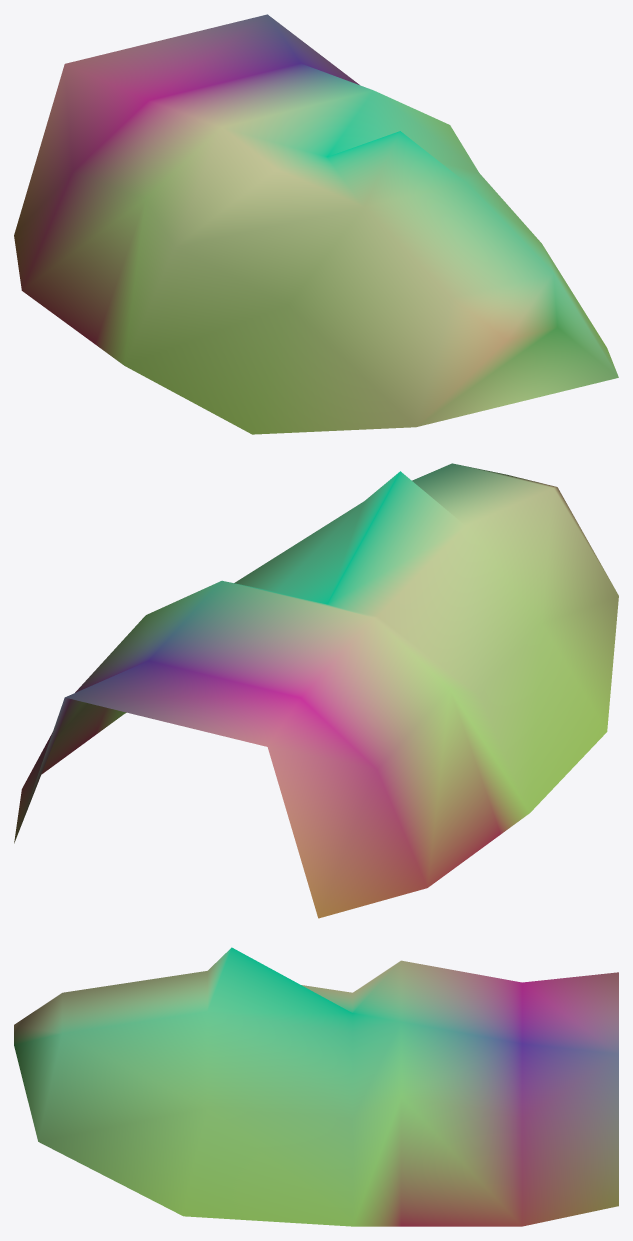
3 views of the same model, one above another, from view 1: azimuth 30°, elevation 25°; view 2: azimuth 150°, elevation 25°; view 3: azimuth 270°, elevation 25° (orthographic). The views are drawn at different scales.
Visible parts, largest first — view 1: part; view 2: part; view 3: part.
Boxes of the visible parts, x1,y1,x2,y2 form: part: [14, 14, 618, 434]; part: [14, 463, 618, 918]; part: [14, 947, 618, 1226].
Bounding box in the file's own units: 16 × 9 × 25.
